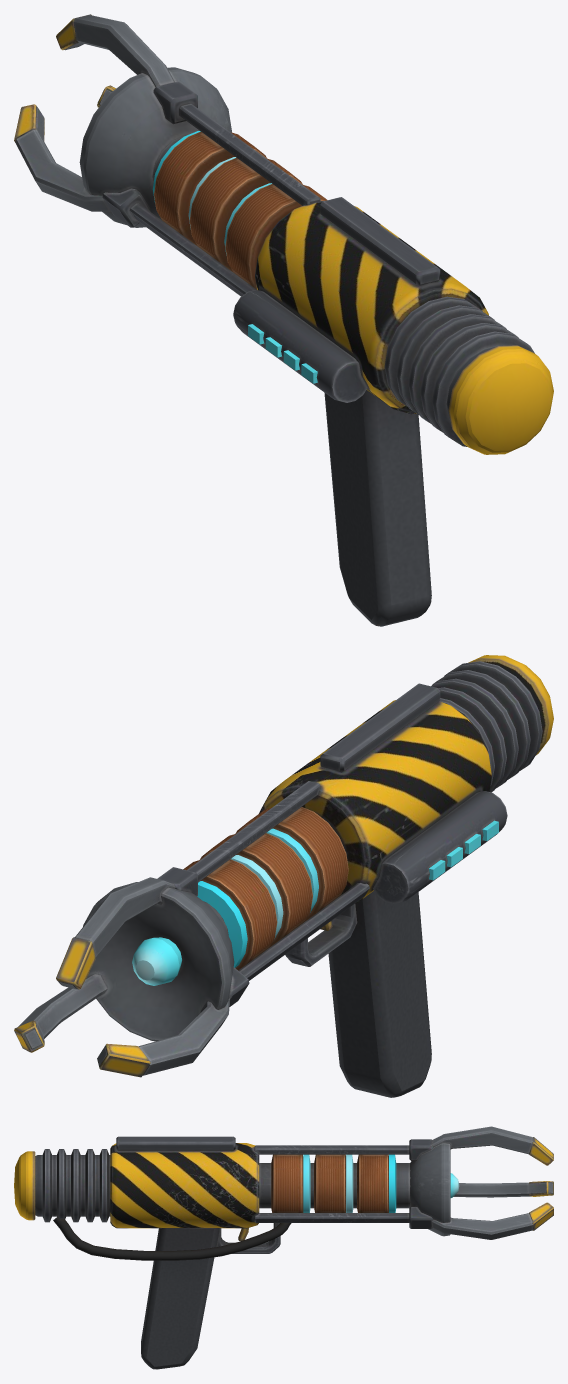
File: grab.glb
3 views of the same model, one above another, from view 1: azimuth 30°, elevation 25°; view 2: azimuth 150°, elevation 25°; view 3: azimuth 270°, elevation 25° (orthographic). The views are drawn at different scales.
Visible parts, largest first — view 1: grab; view 2: grab; view 3: grab.
Boxes of the visible parts, <box> form: grab: <box>14,14,553,626</box>; grab: <box>14,655,553,1097</box>; grab: <box>14,1126,553,1369</box>.
Size of the model in its own units: 0.1019 by 0.2183 by 0.4534.
10 materials, 10 textured.
